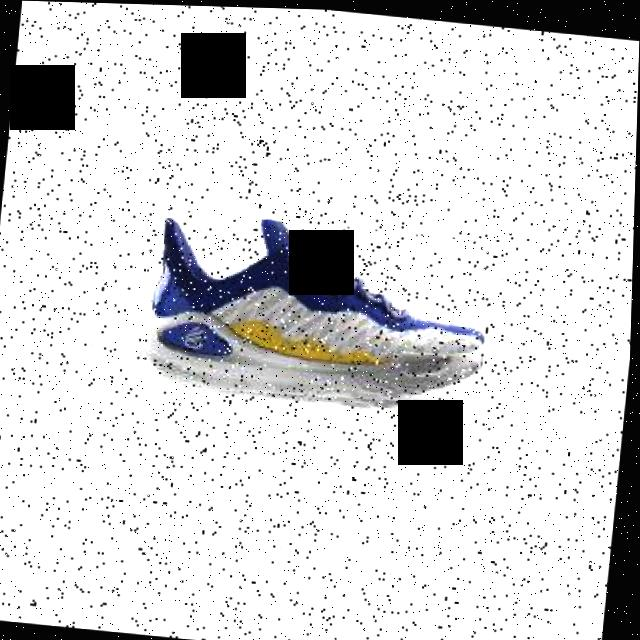shoe: (134, 206, 496, 417)
